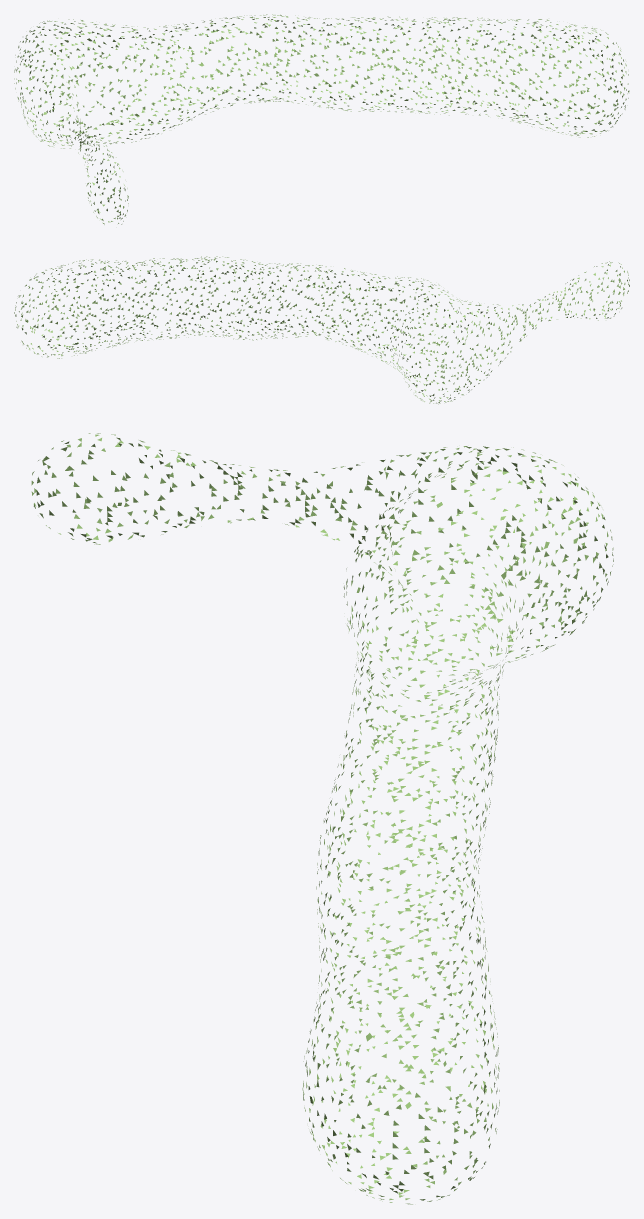
File: morph_013.glb
The picture shows the model from 3 angles, top to bottom: view 1: azimuth 30°, elevation 25°; view 2: azimuth 150°, elevation 25°; view 3: azimuth 270°, elevation 25°; orthographic projection. The views are drawn at different scales.
Size of the model in its own units: 137 by 43.73 by 67.29.
